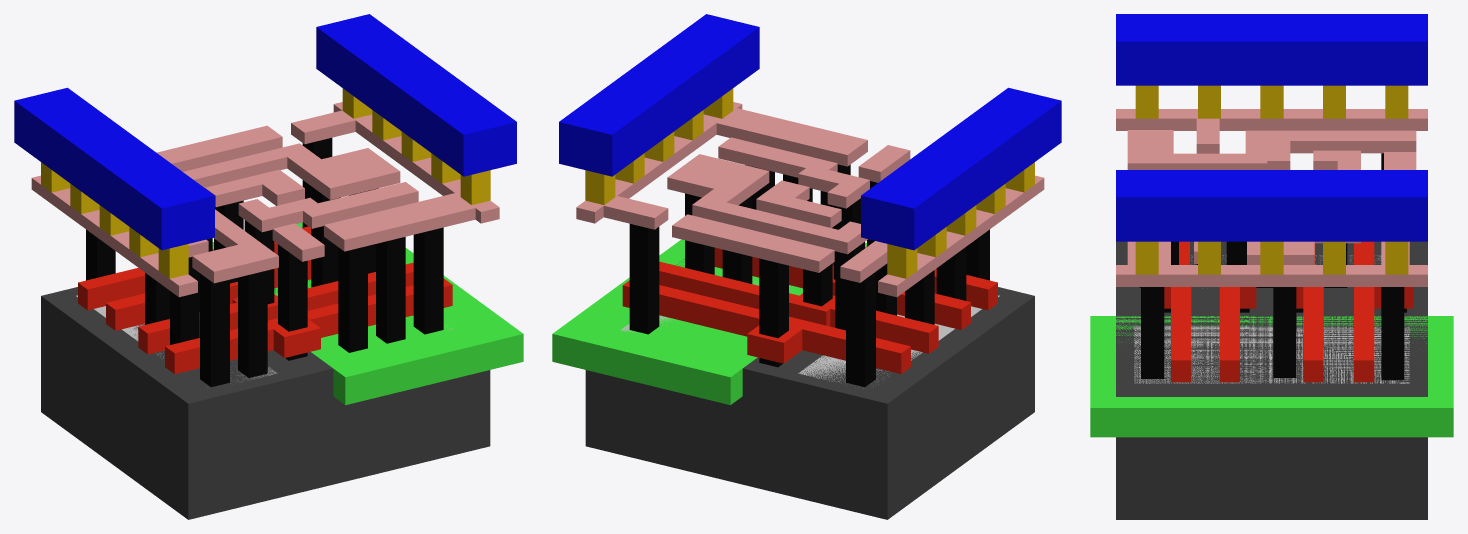
The model's file is sky130_fd_sc_hd__o22ai_1.obj.
The picture shows the model from 3 angles, left to right: view 1: azimuth 30°, elevation 25°; view 2: azimuth 150°, elevation 25°; view 3: azimuth 270°, elevation 25°; orthographic projection. The views are drawn at different scales.
Visible parts, largest first — view 1: subs, metal1, li, licon, nwell, poly, mcon; view 2: subs, metal1, li, licon, poly, nwell, mcon, diff; view 3: subs, metal1, li, nwell, poly, mcon, licon, tap.
Part boxes in pixels (box(x1,y1,x2,y2)): subs: box(41, 280, 490, 519); metal1: box(14, 14, 516, 250); li: box(31, 102, 499, 297); licon: box(86, 137, 443, 387); nwell: box(212, 222, 523, 405); poly: box(78, 226, 452, 373); mcon: box(41, 88, 490, 278); subs: box(585, 259, 1034, 519); metal1: box(559, 14, 1061, 250); li: box(576, 102, 1044, 297); licon: box(629, 164, 989, 387); poly: box(622, 246, 997, 373); nwell: box(552, 239, 866, 405); mcon: box(585, 88, 1034, 278); diff: box(798, 295, 999, 382); subs: box(1116, 241, 1427, 519); metal1: box(1116, 14, 1427, 241); li: box(1116, 109, 1427, 286); nwell: box(1090, 316, 1453, 437); poly: box(1164, 241, 1413, 382); mcon: box(1135, 85, 1408, 274); licon: box(1139, 153, 1406, 380); tap: box(1134, 326, 1409, 383).
Bounding box in the file's own units: 3.2 × 2.74 × 2.68.
